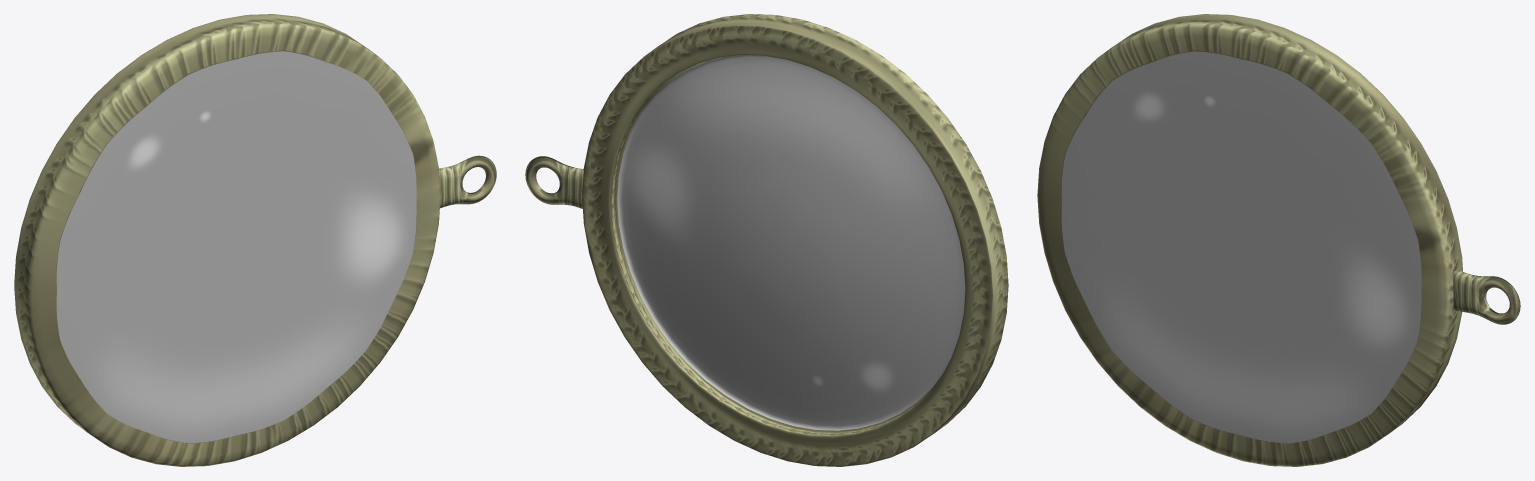
File: monocle.fbx
3 renders of one model, left to right at view 1: azimuth 30°, elevation 25°; view 2: azimuth 150°, elevation 25°; view 3: azimuth 330°, elevation 25°, orthographic.
Parts seen in each view (by area): view 1: Monocle; view 2: Monocle; view 3: Monocle.
Boxes of the visible parts, <box> form: Monocle: <box>14,14,496,466</box>; Monocle: <box>525,14,1008,466</box>; Monocle: <box>1037,14,1520,466</box>.
Size of the model in its own units: 91.86 by 79.58 by 8.57.
